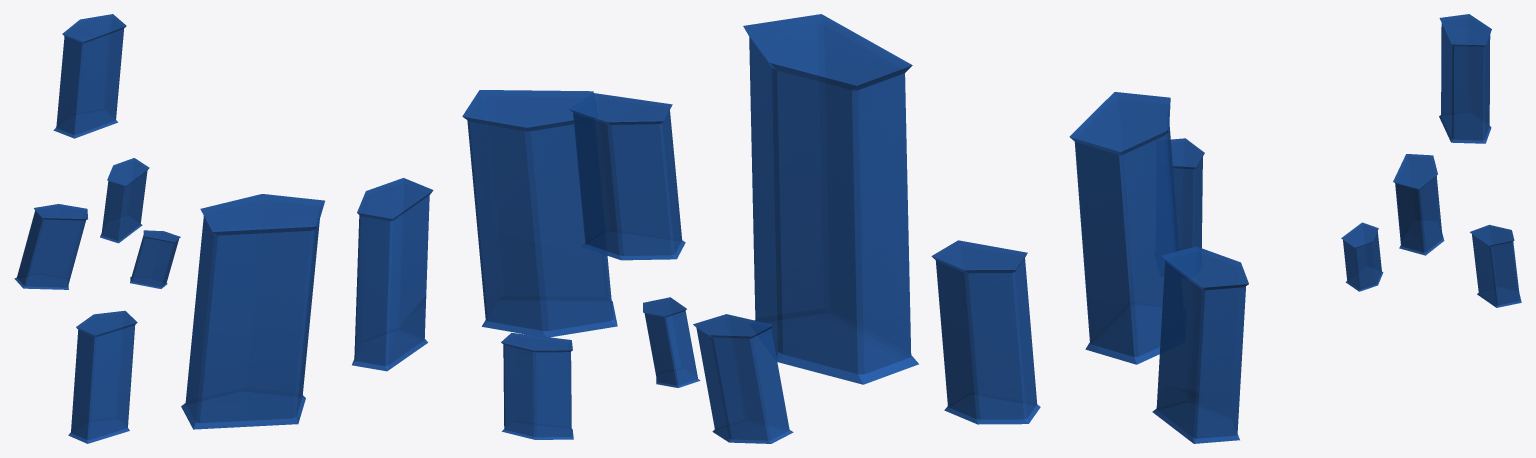
Rendered from 1_crystals.obj.
The picture shows the model from 3 angles, left to right: view 1: azimuth 30°, elevation 25°; view 2: azimuth 150°, elevation 25°; view 3: azimuth 270°, elevation 25°; orthographic projection. The views are drawn at different scales.
Size of the model in its own units: 0.6651 by 0.4701 by 0.6365.
Materials: 1 (1 with a texture image).
